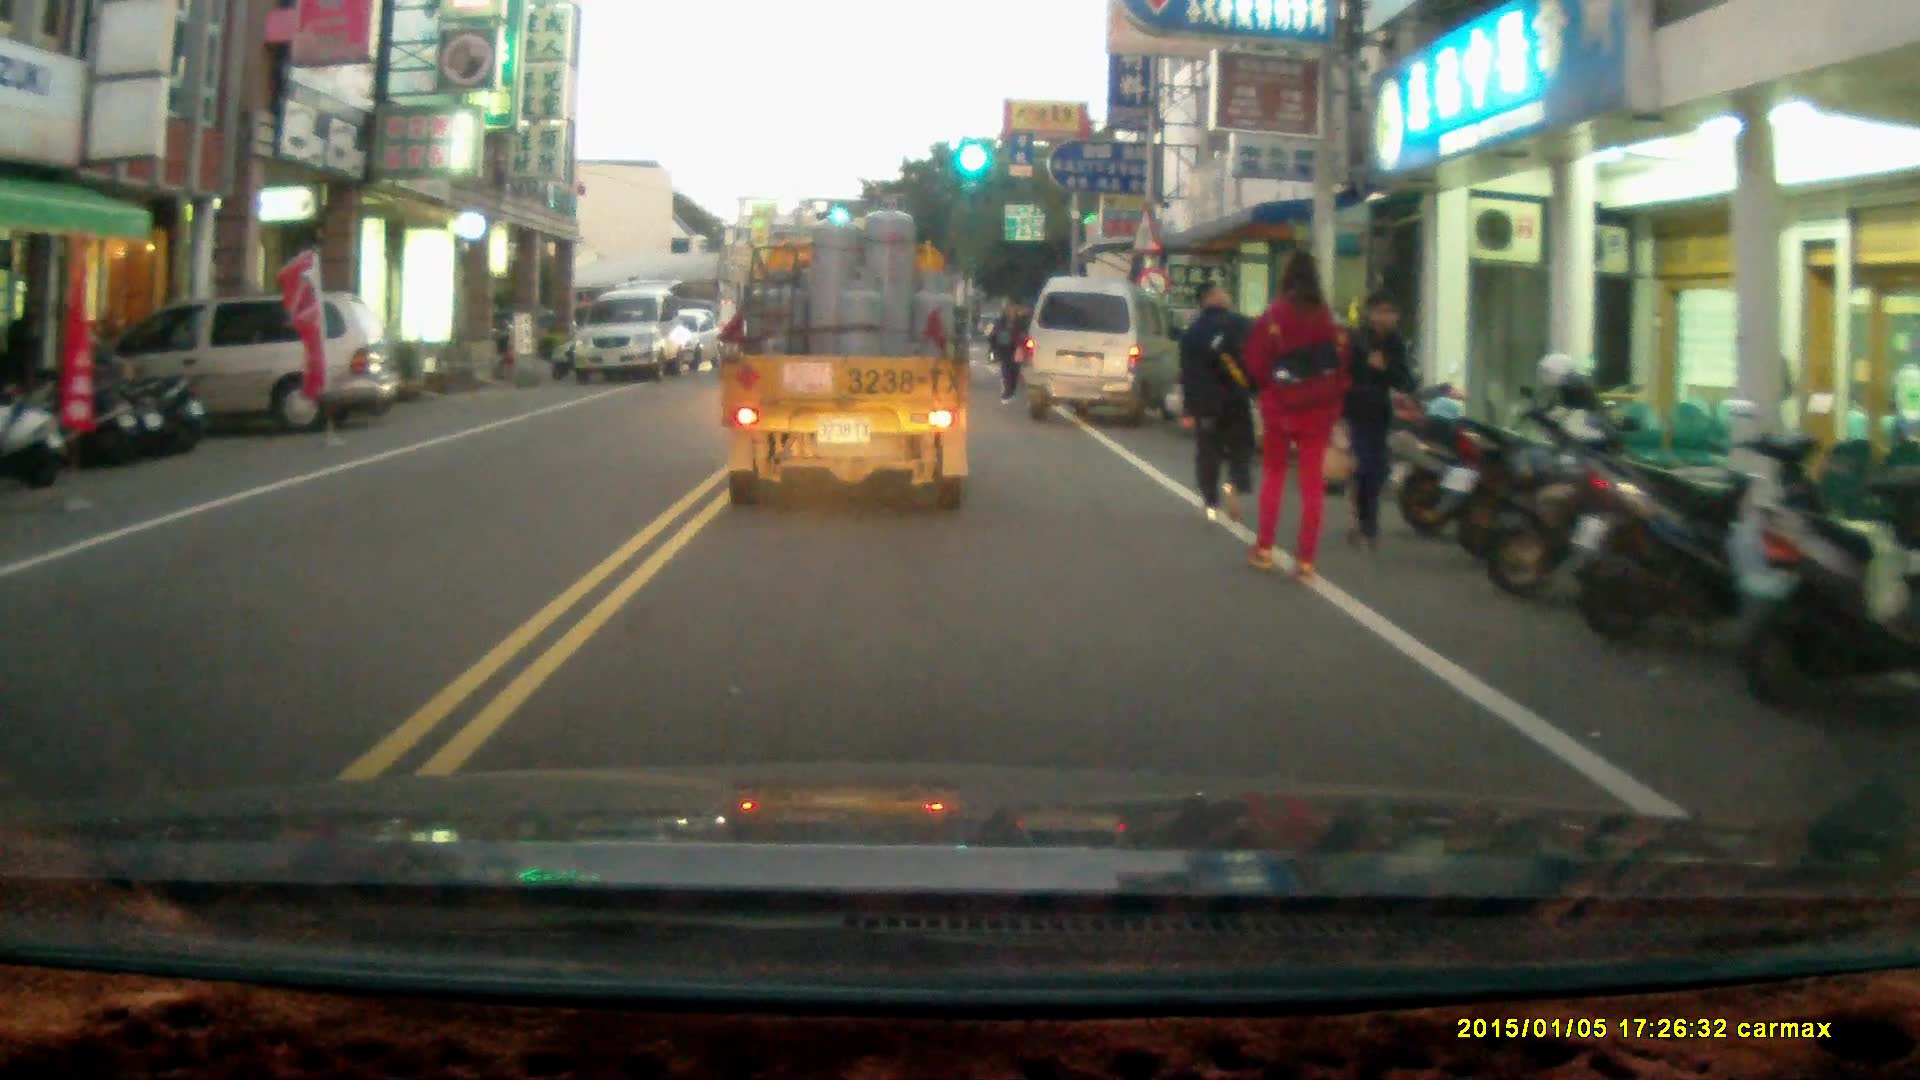pedestrian: (1245, 239, 1344, 587), (1171, 277, 1260, 527), (1336, 292, 1413, 555), (992, 301, 1027, 402)
vehicle: (712, 187, 979, 517), (93, 290, 396, 430), (1026, 274, 1179, 423), (579, 284, 698, 384)
